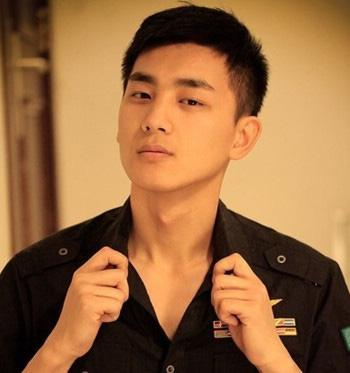person: (40, 3, 301, 310)
